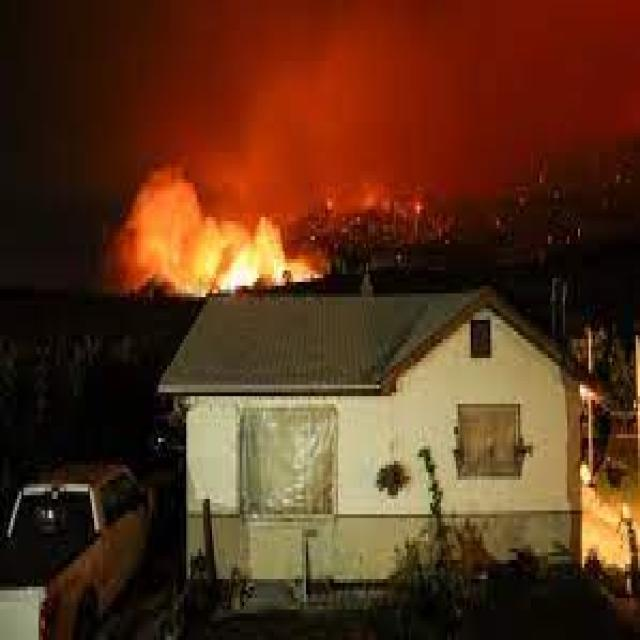Smoke: (96, 154, 332, 298)
